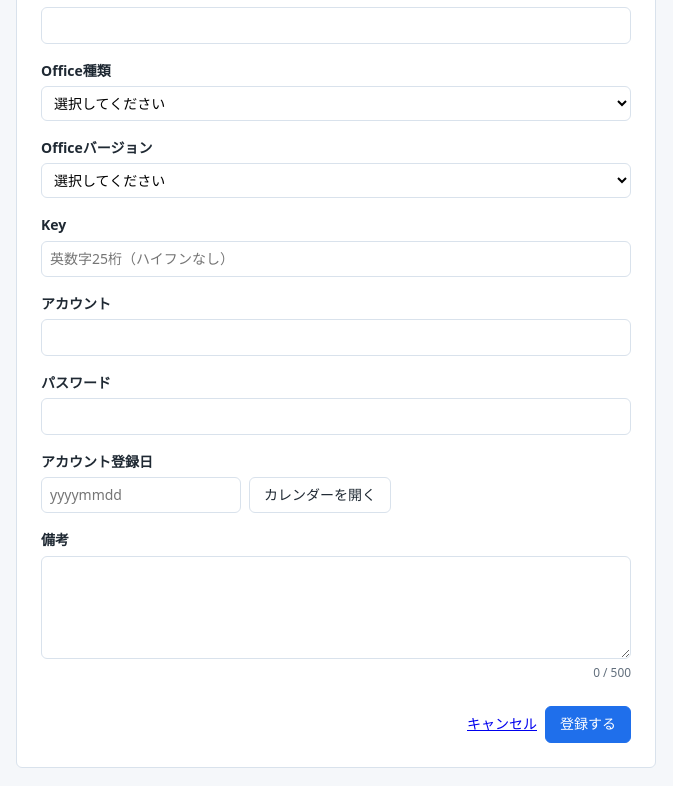
Test: FacilityPcFormPage（新規登録） › 全項目が空欄のまま送信すると、API を呼ばずにフォームの上にエラーを表示する
(page scrolled)
Click the button "登録する". click: [588, 725]
box: [545,706,631,743]
(page scrolled)
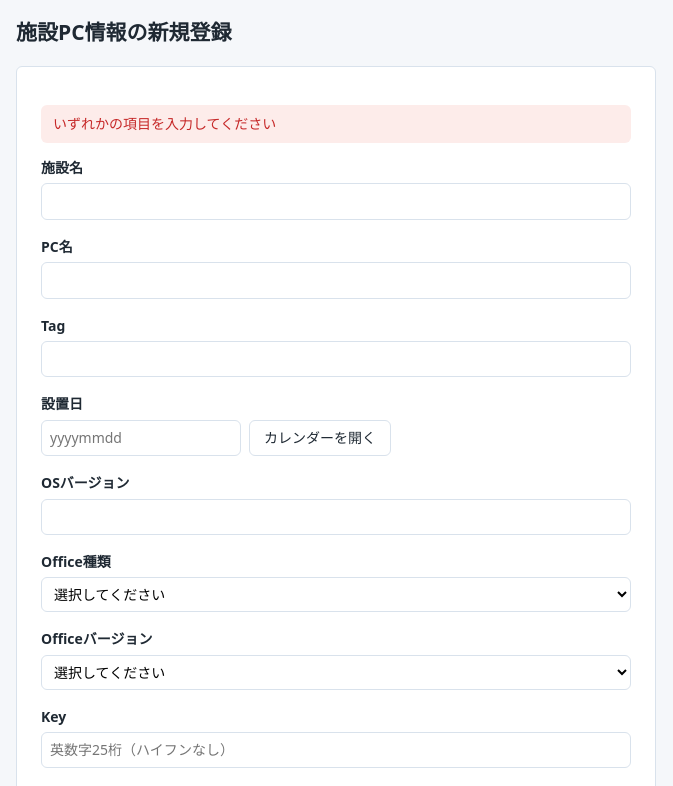
Result: the message reads "いずれかの項目を入力してください" at [53,114,276,133]
